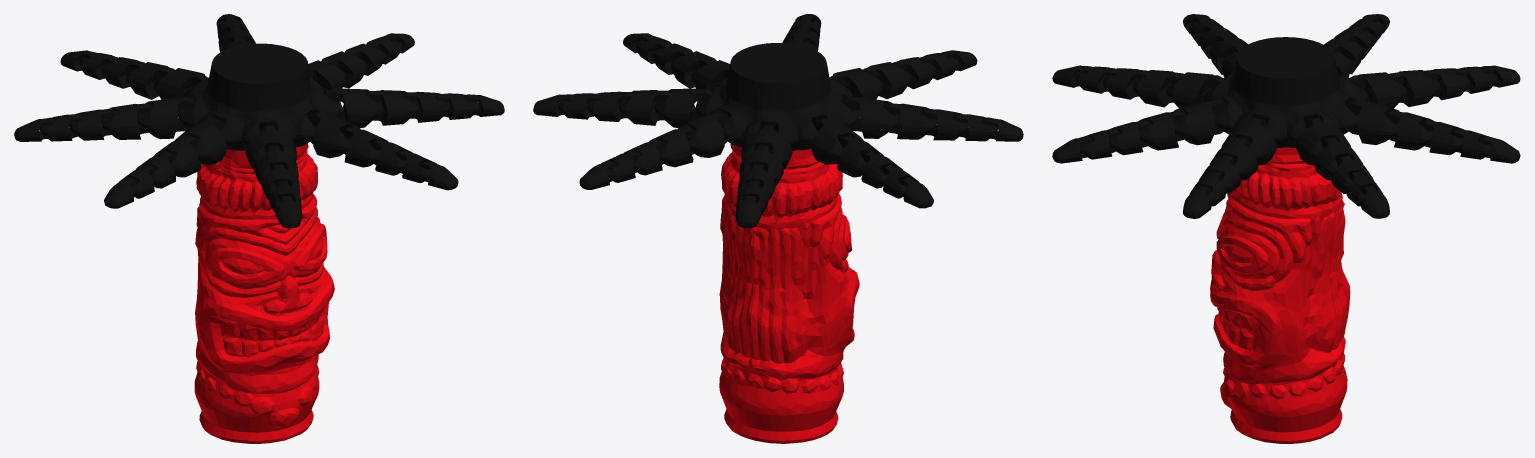
File: tikki_bottle.gltf
The picture shows the model from 3 angles, left to right: view 1: azimuth 30°, elevation 25°; view 2: azimuth 150°, elevation 25°; view 3: azimuth 270°, elevation 25°; orthographic projection.
Visible parts, largest first — view 1: Body1.001, Body2.001; view 2: Body1.001, Body2.001; view 3: Body1.001, Body2.001.
Part boxes in pixels (x1,y1,x2,y2): Body1.001: [14, 14, 504, 228]; Body2.001: [194, 143, 334, 443]; Body1.001: [533, 14, 1023, 228]; Body2.001: [719, 143, 859, 443]; Body1.001: [1052, 14, 1520, 218]; Body2.001: [1210, 147, 1350, 443].
Size of the model in its own units: 4.51 by 3.86 by 4.51.
